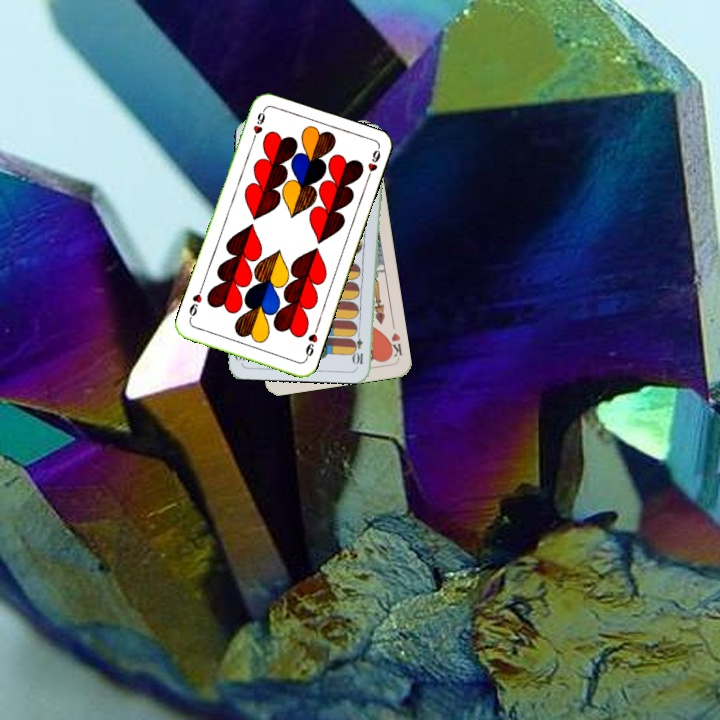E10: (351, 327, 366, 367)
H9: (248, 106, 268, 145), (301, 329, 320, 363)
HK: (383, 329, 405, 360)
